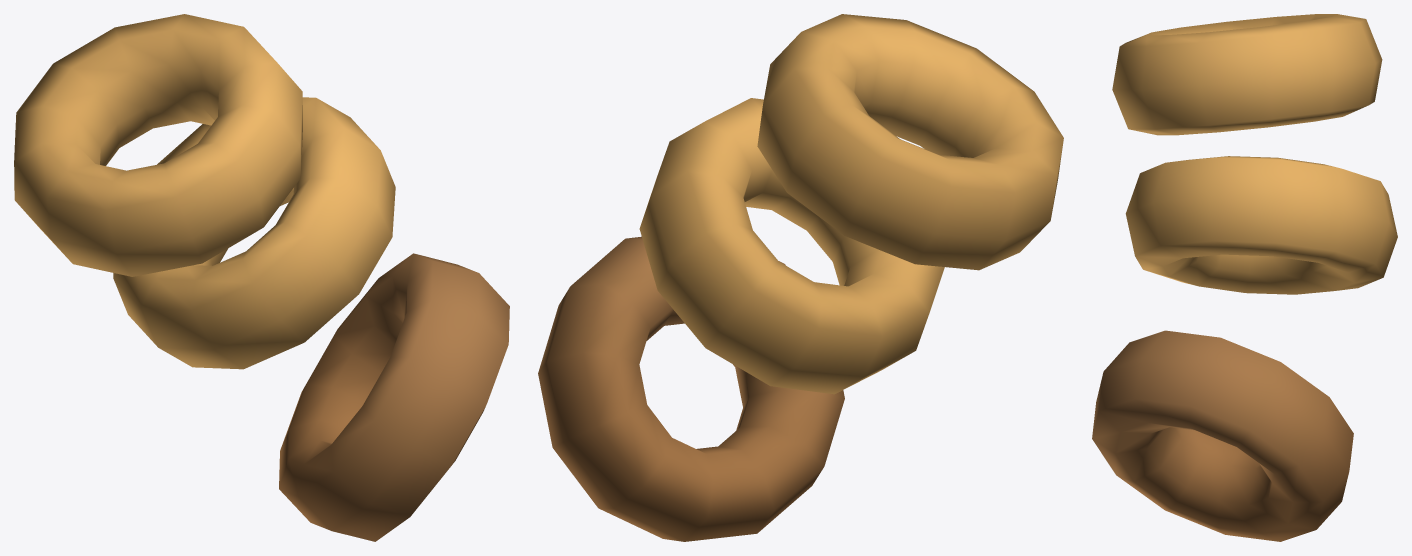
File: Earring_16.fbx
3 renders of one model, left to right at view 1: azimuth 30°, elevation 25°; view 2: azimuth 150°, elevation 25°; view 3: azimuth 270°, elevation 25°, orthographic. The views are drawn at different scales.
Parts seen in each view (by area): view 1: Earring_16; view 2: Earring_16; view 3: Earring_16.
Part boxes in pixels (x1,y1,x2,y2): Earring_16: (14,14,509,541); Earring_16: (538,14,1063,541); Earring_16: (1092,14,1397,541).
Size of the model in its own units: 15.56 by 16.63 by 10.04.
